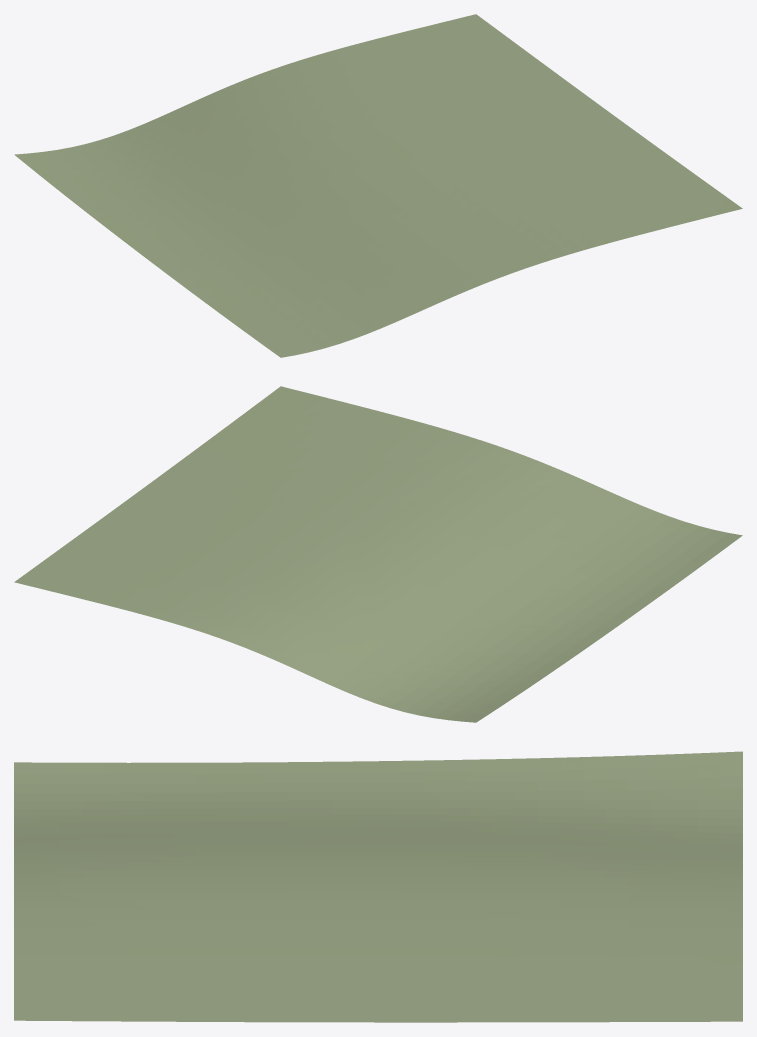
File: desert-11-14.glb
The picture shows the model from 3 angles, top to bottom: view 1: azimuth 30°, elevation 25°; view 2: azimuth 150°, elevation 25°; view 3: azimuth 270°, elevation 25°; orthographic projection. The views are drawn at different scales.
Visible parts, largest first — view 1: desert-11-14; view 2: desert-11-14; view 3: desert-11-14.
Part boxes in pixels (x1=…): desert-11-14: x1=14, y1=14, x2=742, y2=357; desert-11-14: x1=14, y1=386, x2=742, y2=722; desert-11-14: x1=14, y1=751, x2=742, y2=1022.
Size of the model in its own units: 512 by 40.13 by 512.
